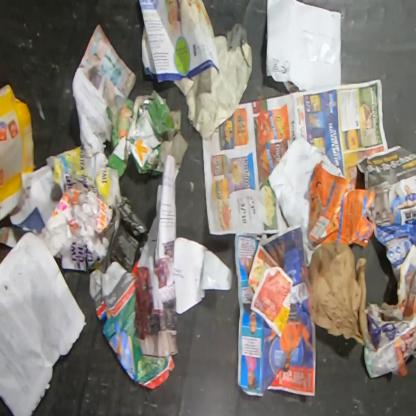cardboard: (0, 82, 35, 222), (0, 241, 16, 269)
metal: (138, 98, 154, 118)
